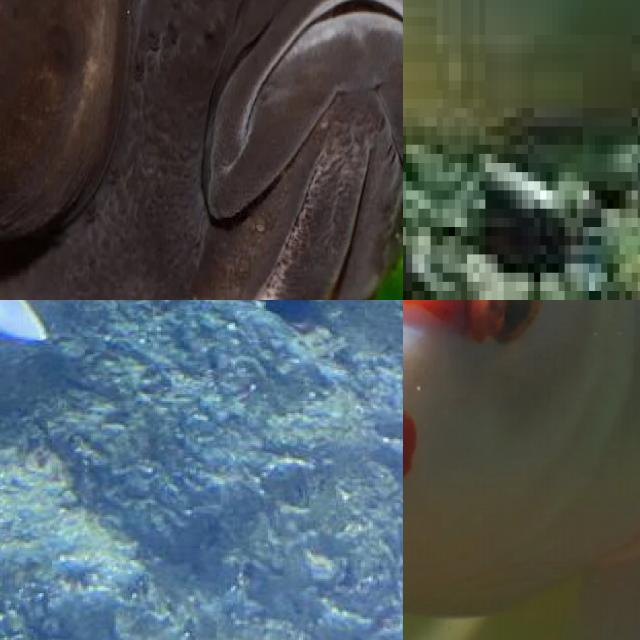fish: (0, 0, 403, 300), (403, 300, 640, 527), (403, 0, 640, 62)
